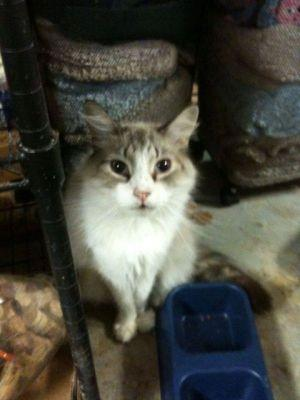ragdoll: (73, 91, 208, 231)
